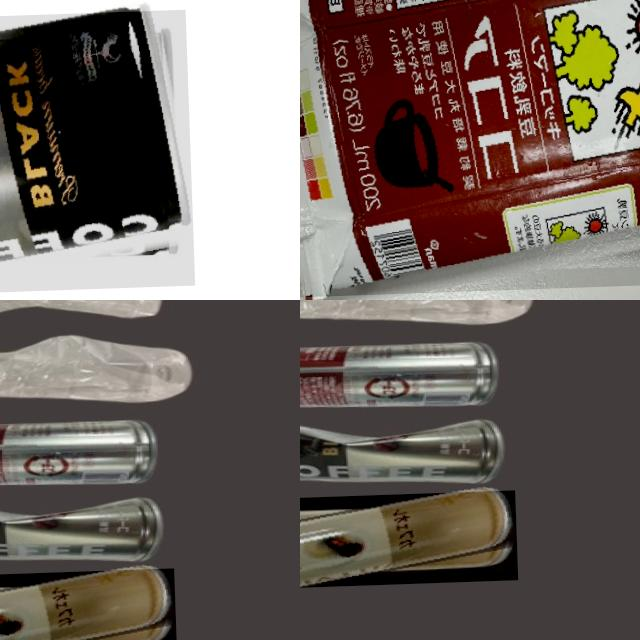Aluminium Foil: (300, 0, 640, 297)
Can: (0, 8, 194, 298), (300, 489, 518, 589), (300, 416, 511, 489), (300, 339, 498, 411), (0, 567, 177, 640), (0, 494, 170, 567), (0, 417, 157, 489)
Transparent Plastic Bottle: (0, 329, 192, 405), (300, 300, 533, 327)
